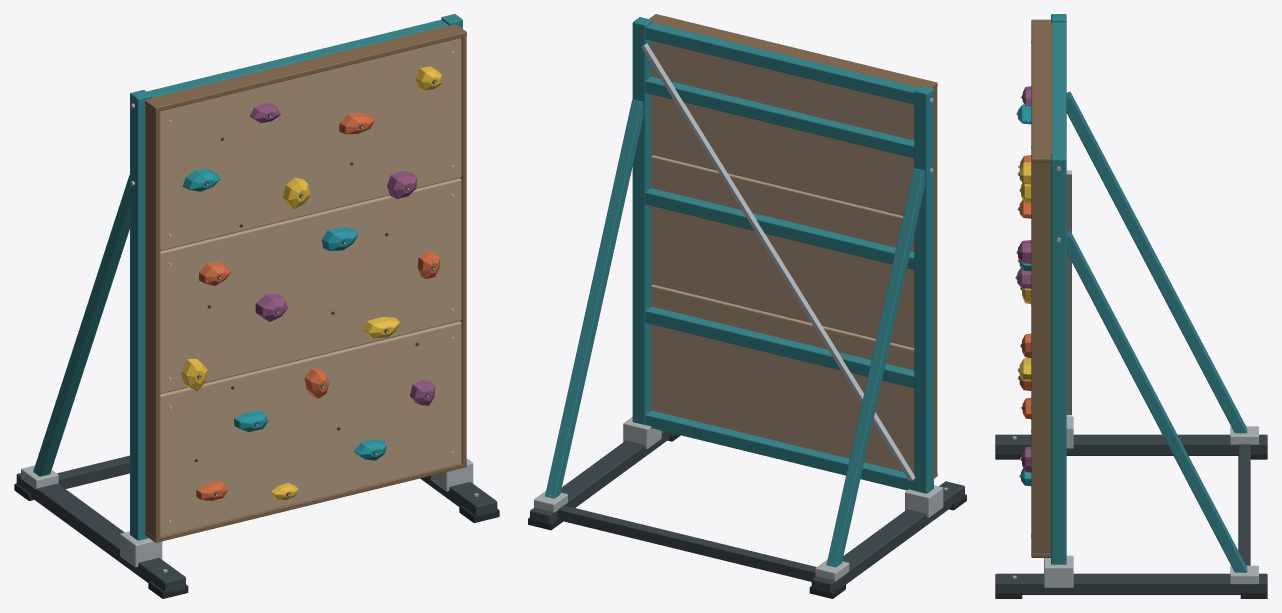
File: city-freestanding-climbing-wall.glb
3 renders of one model, left to right at view 1: azimuth 30°, elevation 25°; view 2: azimuth 150°, elevation 25°; view 3: azimuth 270°, elevation 25°, orthographic. The views are drawn at different scales.
Visible parts, largest first — view 1: Assembly | Warm sand climbing panel, Assembly | Dark ochre panel edges, Assembly | Muted petrol powder coating, Assembly | Dark graphite coated frame, Assembly | Mustard climbing holds, Assembly | Terracotta climbing holds, Assembly | Satin galvanized small fittings, Assembly | Blue green climbing holds, Assembly | Muted plum climbing holds, Assembly | Dark molded rubber feet; view 2: Assembly | Warm sand climbing panel, Assembly | Muted petrol powder coating, Assembly | Dark graphite coated frame, Assembly | Satin galvanized small fittings, Assembly | Dark ochre panel edges, Assembly | Dark molded rubber feet; view 3: Assembly | Muted petrol powder coating, Assembly | Dark ochre panel edges, Assembly | Dark graphite coated frame, Assembly | Satin galvanized small fittings, Assembly | Muted plum climbing holds, Assembly | Mustard climbing holds, Assembly | Terracotta climbing holds, Assembly | Dark molded rubber feet, Assembly | Blue green climbing holds.
Boxes of the visible parts, box(x1,y1,x2,y2) form: Assembly | Warm sand climbing panel: box(160, 38, 461, 536); Assembly | Dark ochre panel edges: box(145, 24, 466, 542); Assembly | Muted petrol powder coating: box(33, 14, 462, 540); Assembly | Dark graphite coated frame: box(16, 80, 497, 593); Assembly | Mustard climbing holds: box(181, 66, 441, 499); Assembly | Terracotta climbing holds: box(196, 112, 439, 500); Assembly | Satin galvanized small fittings: box(21, 51, 478, 572); Assembly | Blue green climbing holds: box(182, 169, 386, 460); Assembly | Muted plum climbing holds: box(249, 103, 434, 405); Assembly | Dark molded rubber feet: box(14, 483, 499, 598); Assembly | Warm sand climbing panel: box(651, 40, 914, 474); Assembly | Muted petrol powder coating: box(545, 17, 933, 567); Assembly | Dark graphite coated frame: box(530, 431, 964, 592); Assembly | Satin galvanized small fittings: box(534, 43, 947, 581); Assembly | Dark ochre panel edges: box(649, 14, 937, 478); Assembly | Dark molded rubber feet: box(528, 433, 966, 598); Assembly | Muted petrol powder coating: box(1051, 14, 1247, 572); Assembly | Dark ochre panel edges: box(1031, 19, 1052, 557); Assembly | Dark graphite coated frame: box(995, 95, 1267, 594); Assembly | Satin galvanized small fittings: box(1012, 40, 1258, 587); Assembly | Muted plum climbing holds: box(1017, 86, 1031, 472); Assembly | Mustard climbing holds: box(1019, 161, 1031, 380); Assembly | Terracotta climbing holds: box(1019, 155, 1031, 419); Assembly | Dark molded rubber feet: box(995, 452, 1267, 598); Assembly | Blue green climbing holds: box(1018, 104, 1031, 486).
Bounding box in the file's own units: 2.33 × 3.13 × 1.77.
